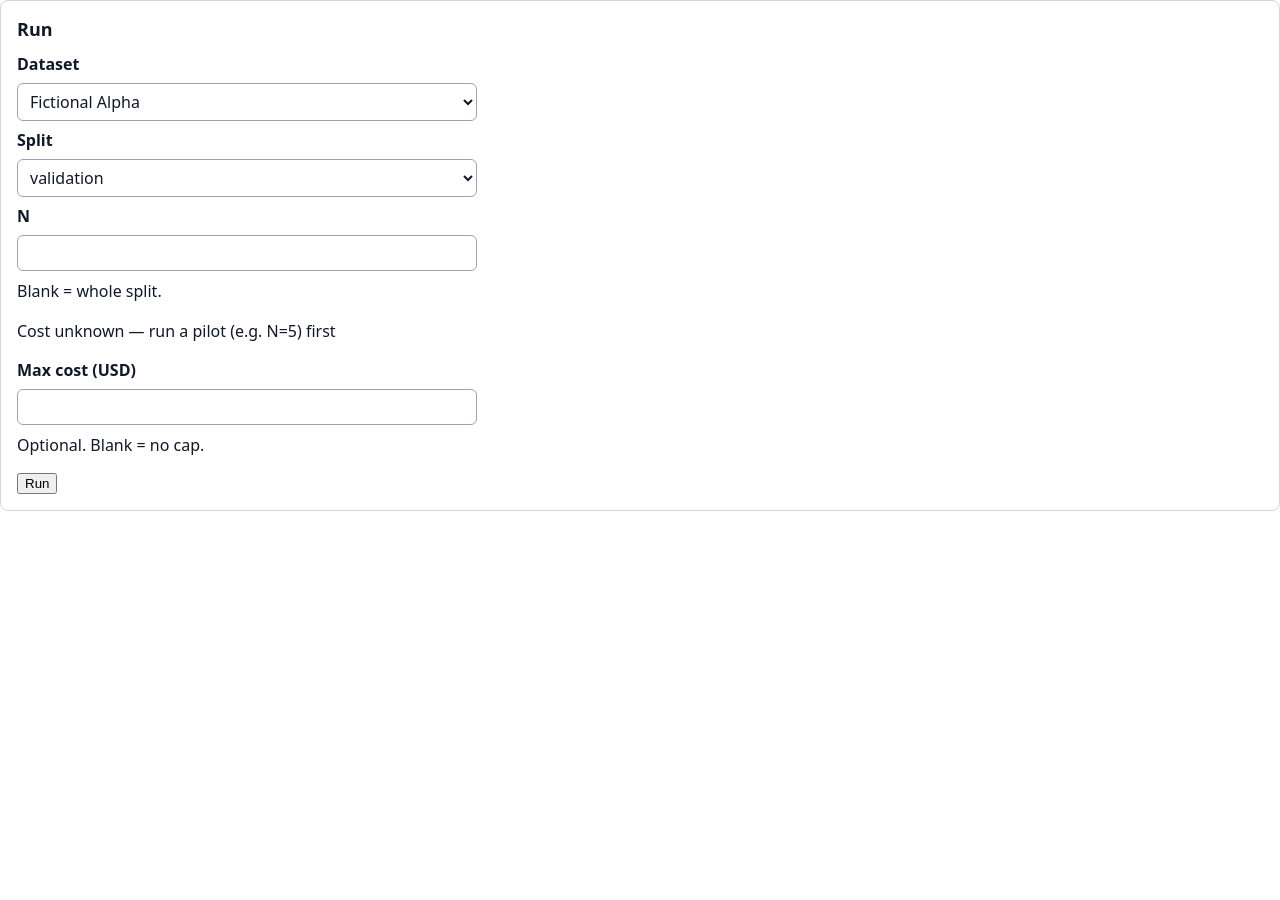
it: preserves schema_mismatch message and detail
Click the button "Run". click: click(37, 484)
box: [17,473,58,494]
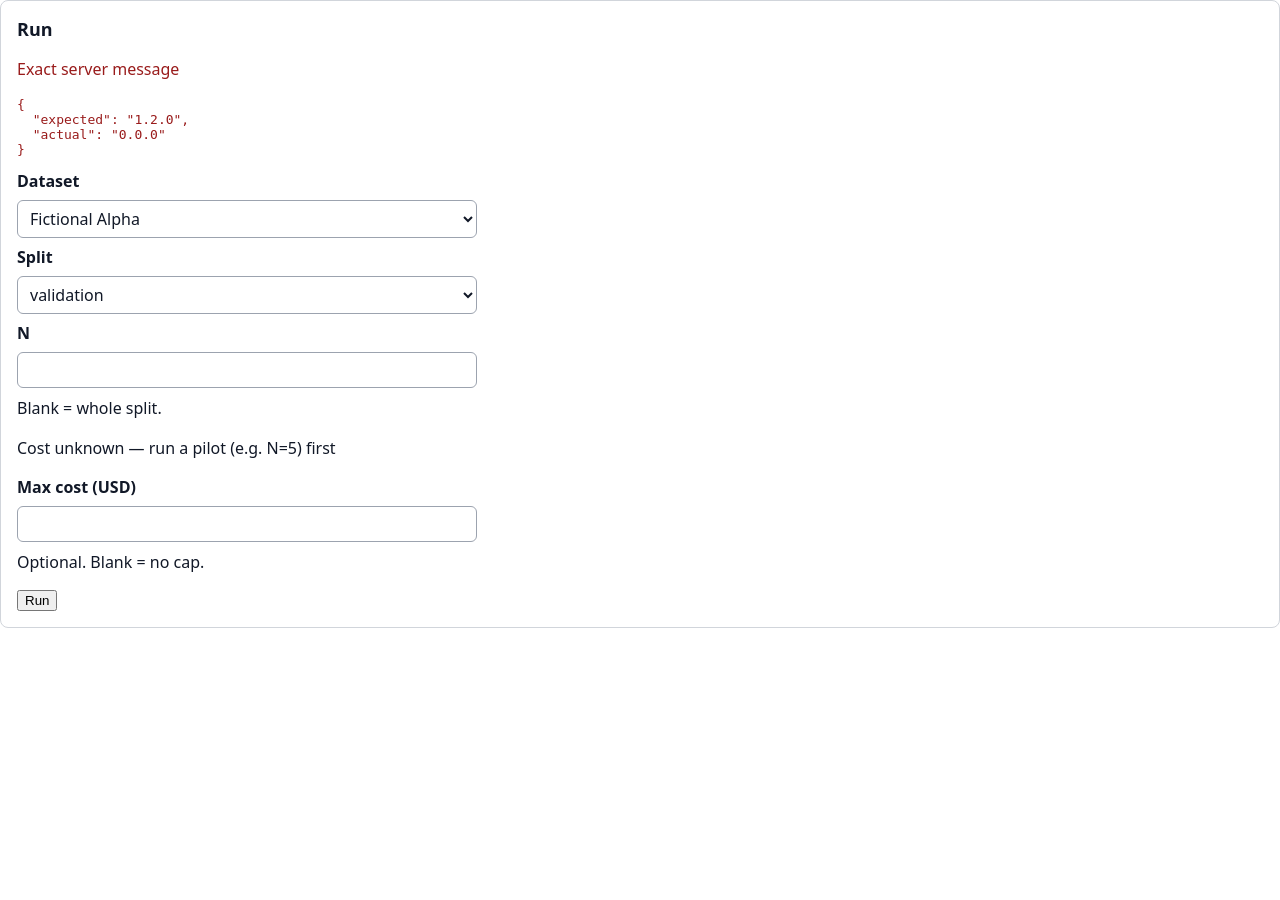
Now the text "Exact server message" is shown, box [17,58,179,80]
Now the text "{ \"expected\": \"1.2.0\", \"actual\": \"0.0.0\" }" is shown, box [17,97,189,157]
